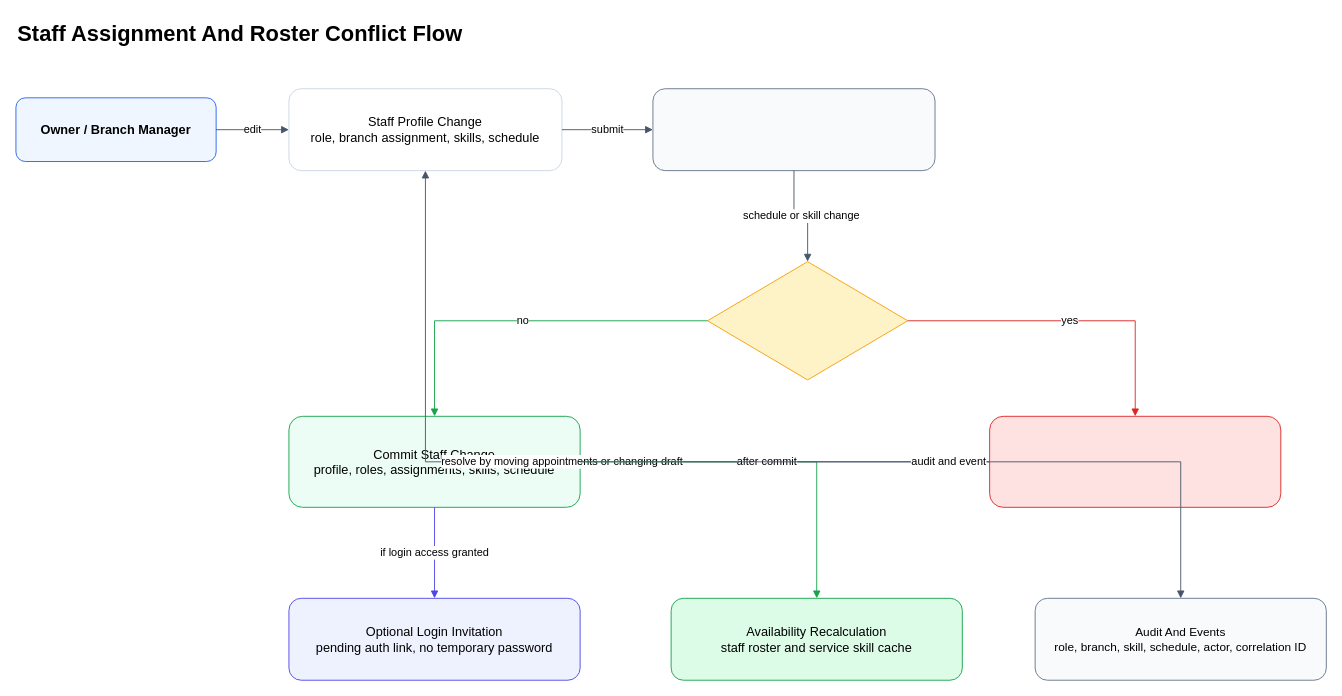
The diagram is 1342 pixels wide and 696 high, and some of its shapes have lost their labels. The shapes that lost their labels are listed below. From the top down, each one's box as (x1, y1, x2, y2) in pixels, then its label:
(652, 88, 935, 171): Validate Business And Branch Scope actor permission and assigned branch
(707, 261, 908, 380): Affects Future Confirmed Appointments?
(989, 415, 1281, 507): 409 Schedule Conflict return affected appointment count and date range
